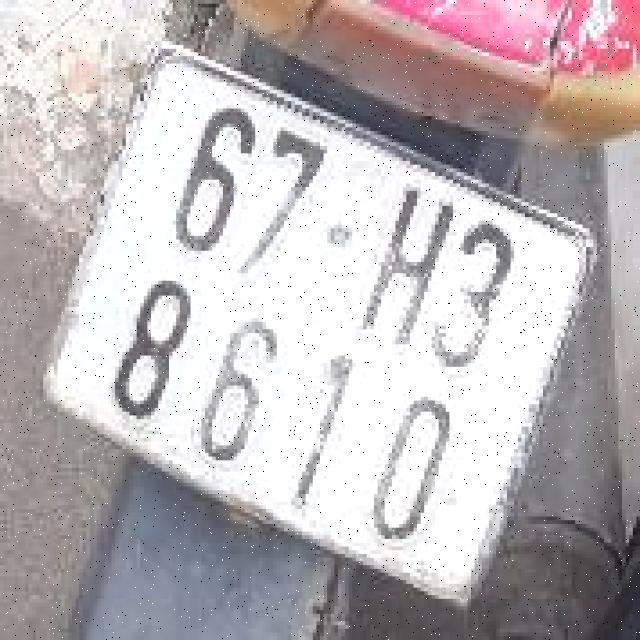0: (348, 376, 475, 560)
1: (273, 339, 375, 513)
3: (418, 205, 546, 392)
6: (161, 91, 276, 271), (180, 299, 297, 474)
7: (221, 116, 341, 296)
8: (95, 258, 216, 430)
H: (353, 169, 469, 364)
